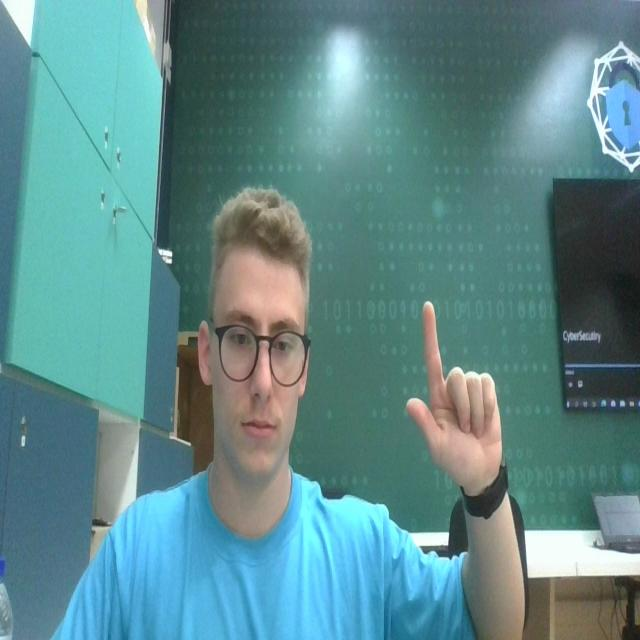G: (398, 293, 512, 487)
